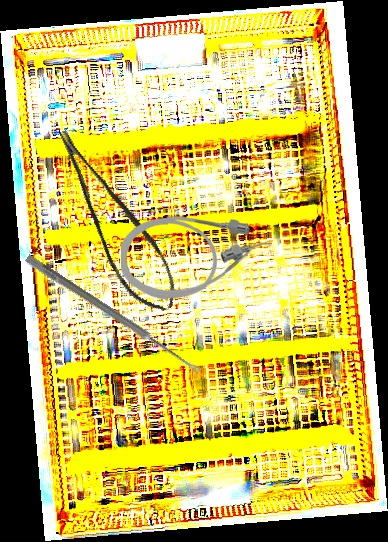Cannula: (120, 213, 273, 301)
Micro Scissor: (51, 113, 187, 324)
Surgical Spoon: (23, 254, 204, 376)
